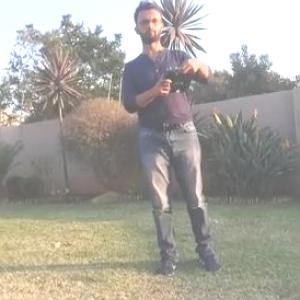follow: (120, 0, 230, 279)
